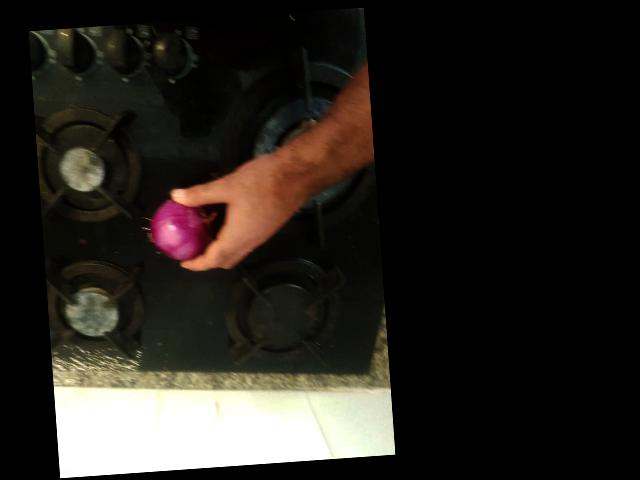onion: (114, 309, 176, 359)
